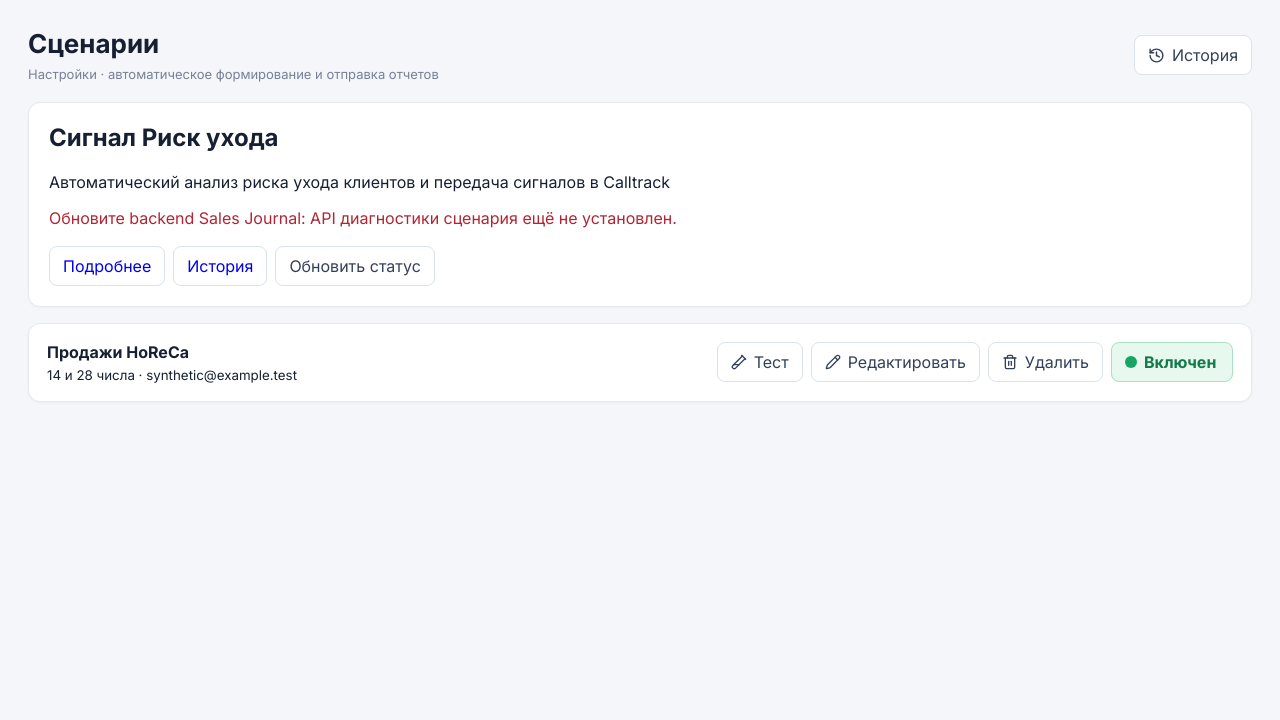
Test: handles old backend API without hiding the existing HoReCa scenario
Expected: the text "Продажи HoReCa" is shown, [47,342,189,362]
Expected: the text "Обновите backend Sales Journal: API диагностики сценария ещё не установлен." is shown, [49,208,677,228]
Click the button "Тест": (760,362) [717,342,803,382]
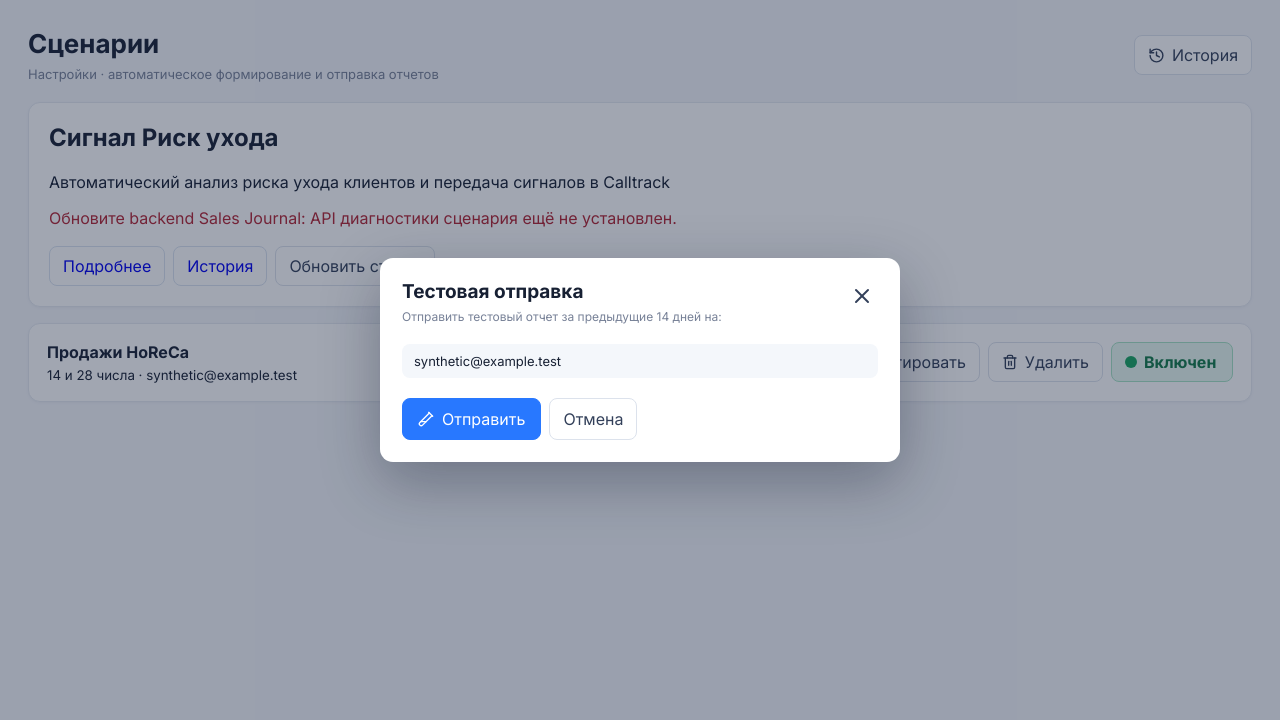
Result: the heading "Тестовая отправка" is shown at [402,280,583,303]
Result: the button "Отправить" is shown at [402,398,541,440]
